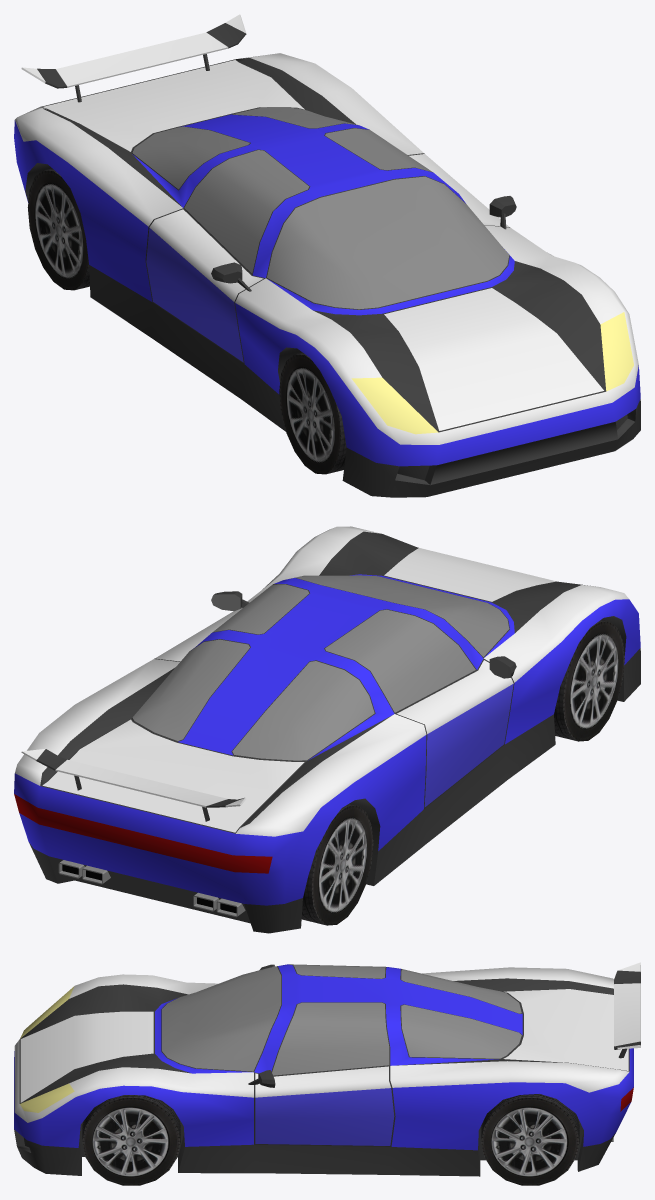
The model's file is Car 08.FBX.
3 renders of one model, top to bottom at view 1: azimuth 30°, elevation 25°; view 2: azimuth 150°, elevation 25°; view 3: azimuth 270°, elevation 25°, orthographic. The views are drawn at different scales.
Parts seen in each view (by area): view 1: Car 08; view 2: Car 08; view 3: Car 08.
Boxes of the visible parts, box(x1,y1,x2,y2) form: Car 08: box(14, 14, 640, 497); Car 08: box(14, 526, 640, 933); Car 08: box(14, 962, 640, 1185).
Size of the model in its own units: 2.14 by 1.22 by 4.88.
